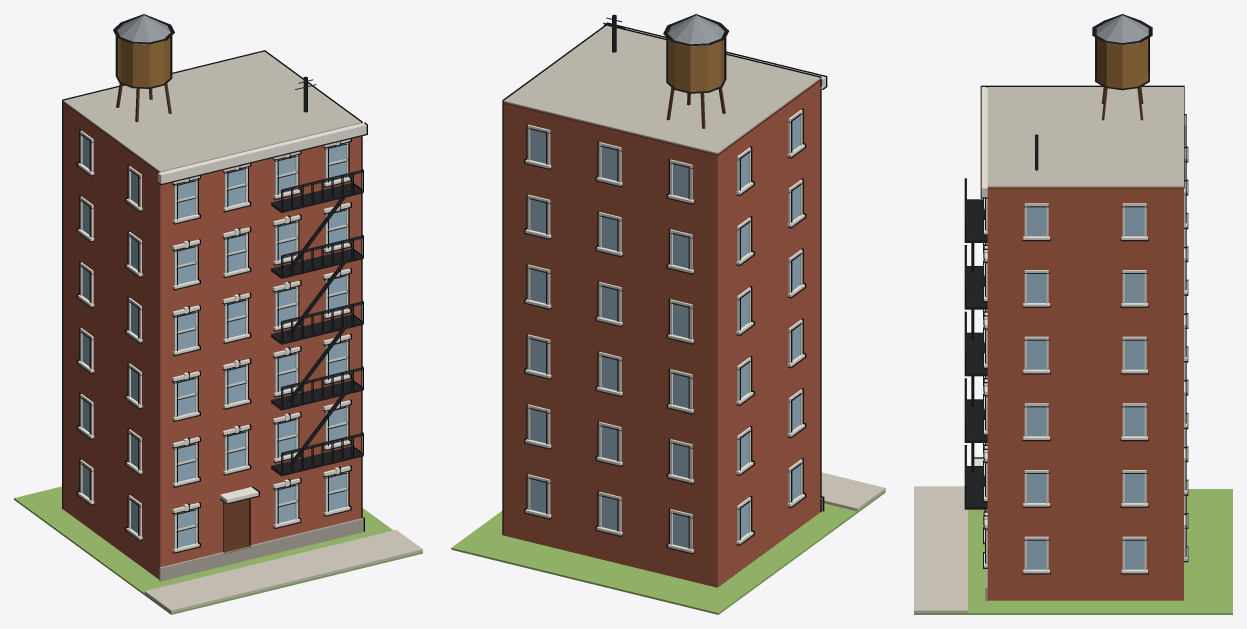
Rendered from Konut_tugla_apt_2.fbx.
3 views of the same model, side by side, from view 1: azimuth 30°, elevation 25°; view 2: azimuth 150°, elevation 25°; view 3: azimuth 270°, elevation 25° (orthographic). The views are drawn at different scales.
Parts seen in each view (by area): view 1: Konut_tugla_apt_2; view 2: Konut_tugla_apt_2; view 3: Konut_tugla_apt_2.
Part boxes in pixels (left/top/right/bottom): Konut_tugla_apt_2: left=14, top=14, right=422, bottom=614; Konut_tugla_apt_2: left=451, top=14, right=885, bottom=614; Konut_tugla_apt_2: left=914, top=14, right=1232, bottom=614.
Size of the model in its own units: 12 by 23.13 by 13.
